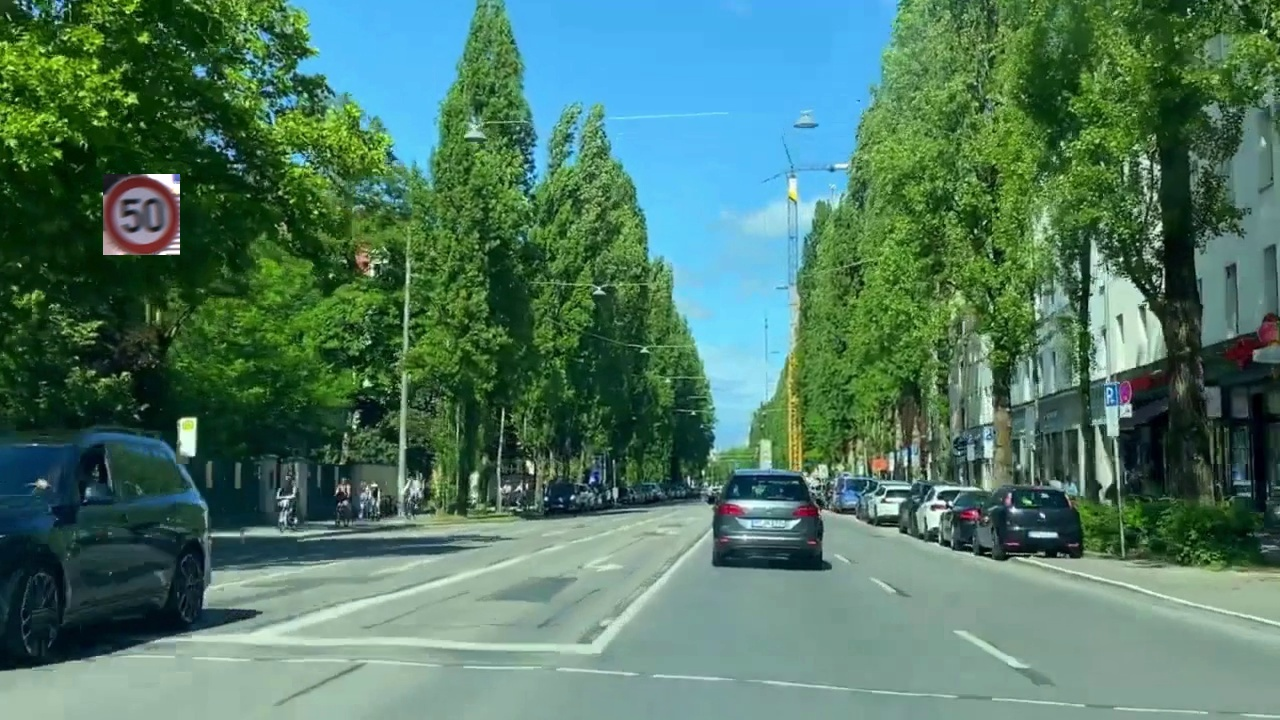Speed 50: (103, 174, 180, 255)
